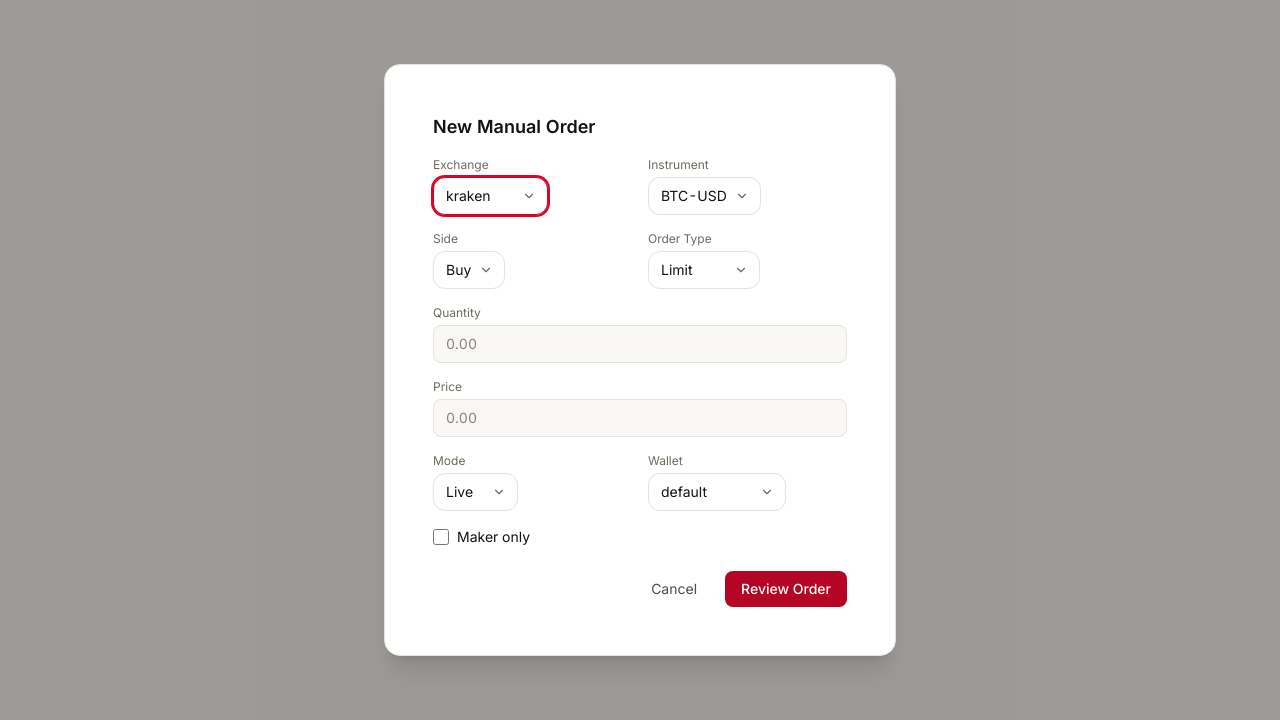
Scenario: NewOrderModal › shows confirmation view after filling form
Type "0.5" into the number field with placeholder "0.00". click: [640, 344]
box: [433, 325, 847, 363]
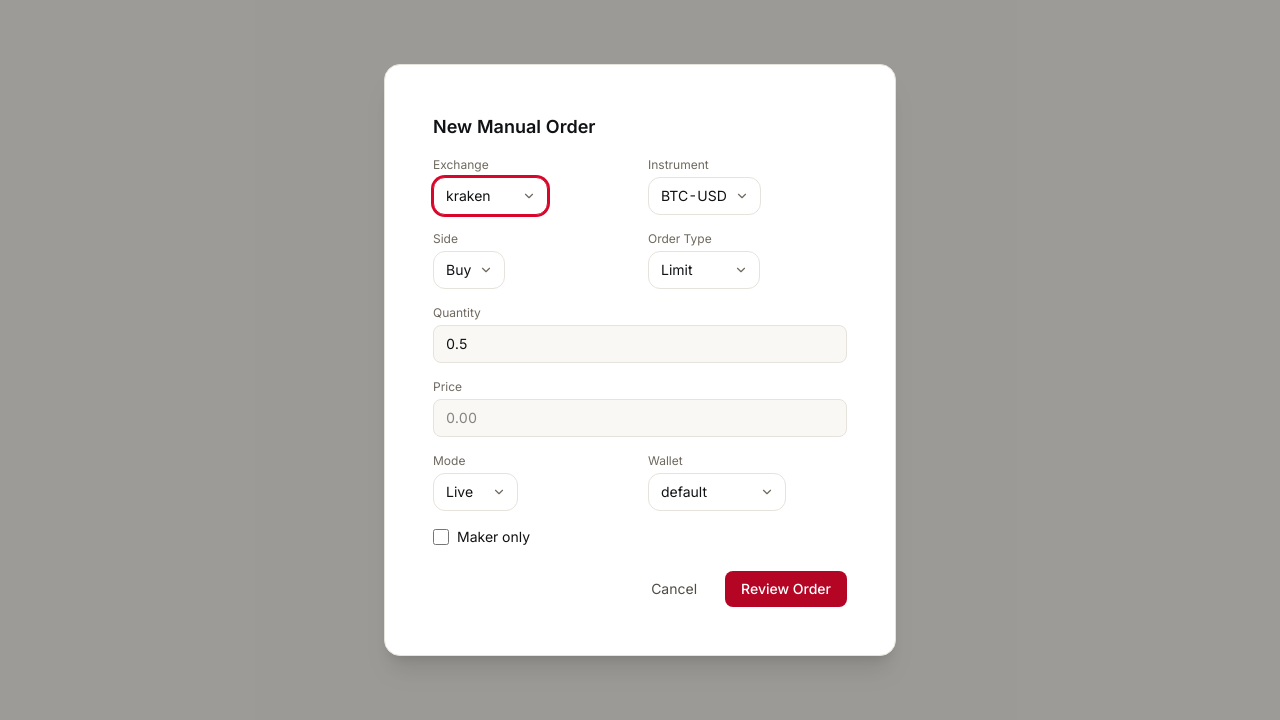
Type "50000" into the number field with placeholder "0.00". click: [640, 418]
box: [433, 399, 847, 437]
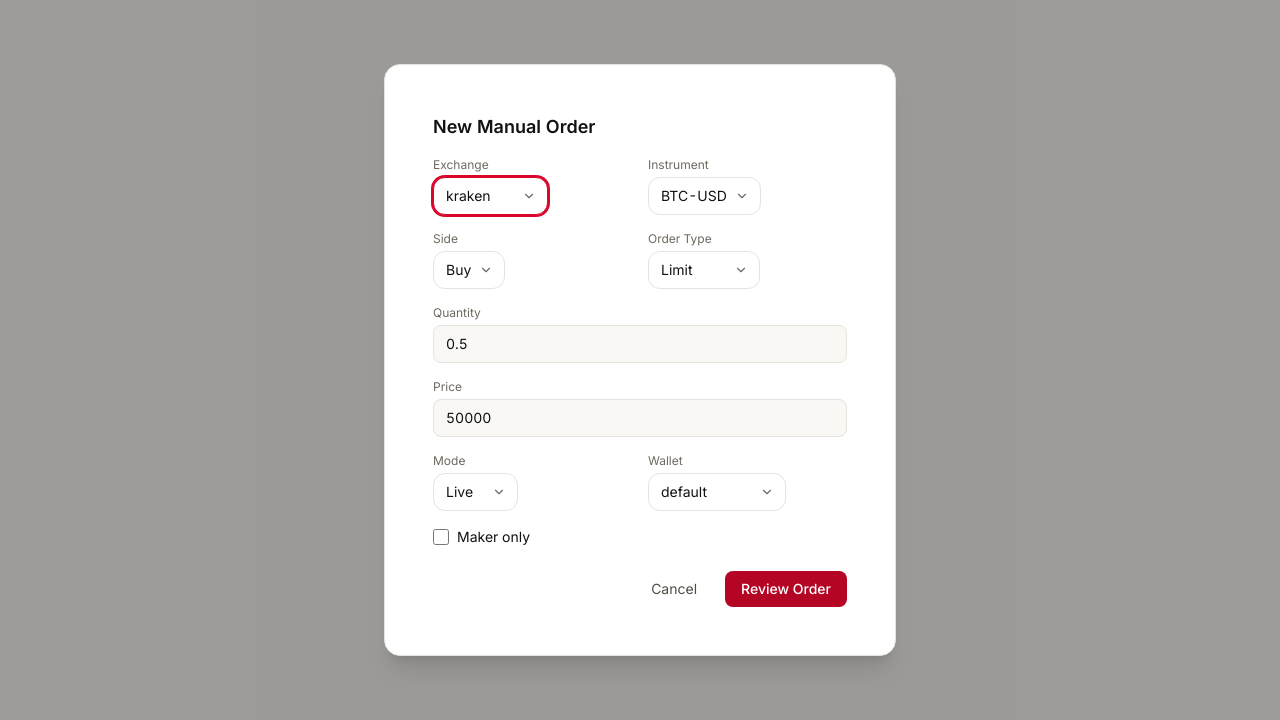
Click the button "Review Order". click: [786, 589]
box: [725, 571, 847, 607]
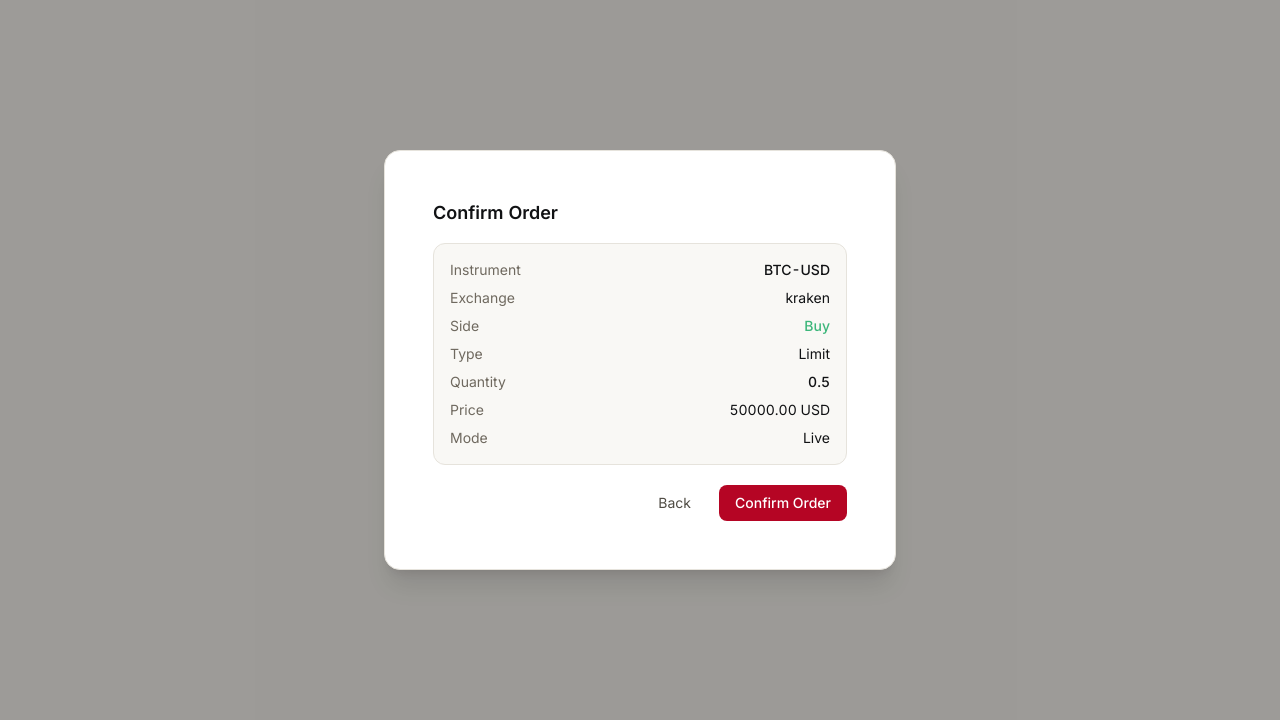
expect the heading "Confirm Order" is shown: met, box [433, 202, 558, 223]
